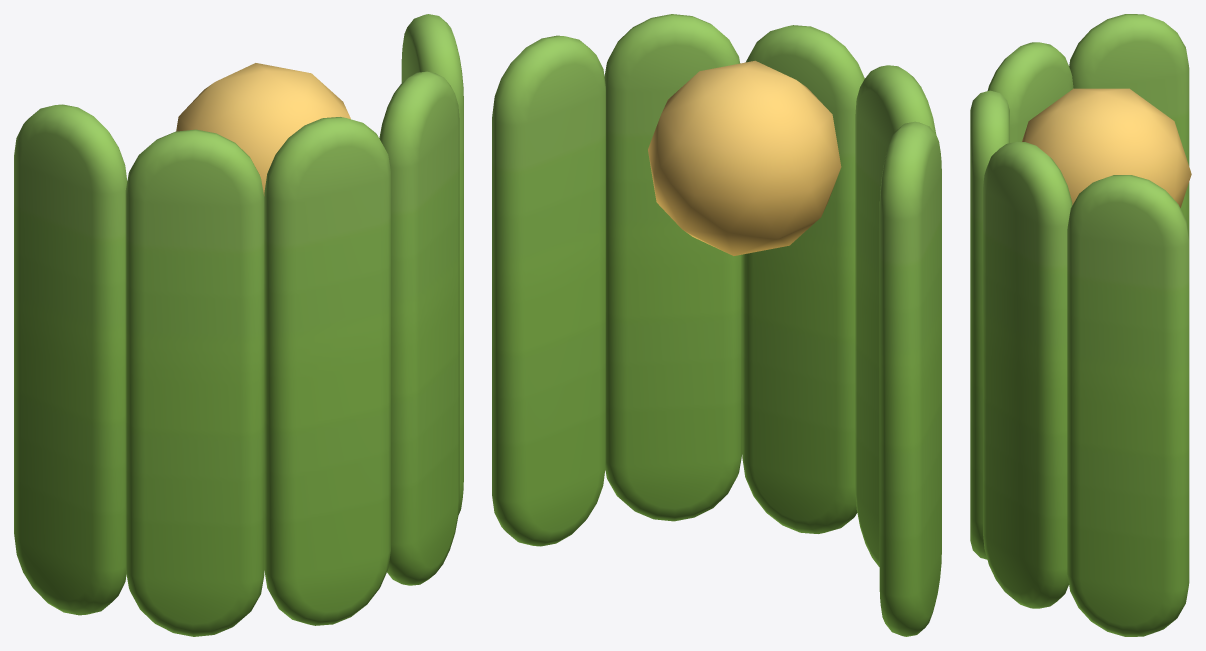
The model's file is Light_17.glb.
The picture shows the model from 3 angles, left to right: view 1: azimuth 30°, elevation 25°; view 2: azimuth 150°, elevation 25°; view 3: azimuth 270°, elevation 25°; orthographic projection. The views are drawn at different scales.
Visible parts, largest first — view 1: Light_17; view 2: Light_17; view 3: Light_17.
Boxes of the visible parts, x1=… form: Light_17: x1=14, y1=14, x2=463, y2=636; Light_17: x1=492, y1=14, x2=941, y2=636; Light_17: x1=970, y1=14, x2=1191, y2=636.
Bounding box in the file's own units: 0.2821 × 0.3224 × 0.1399.
1 material, 1 textured.
